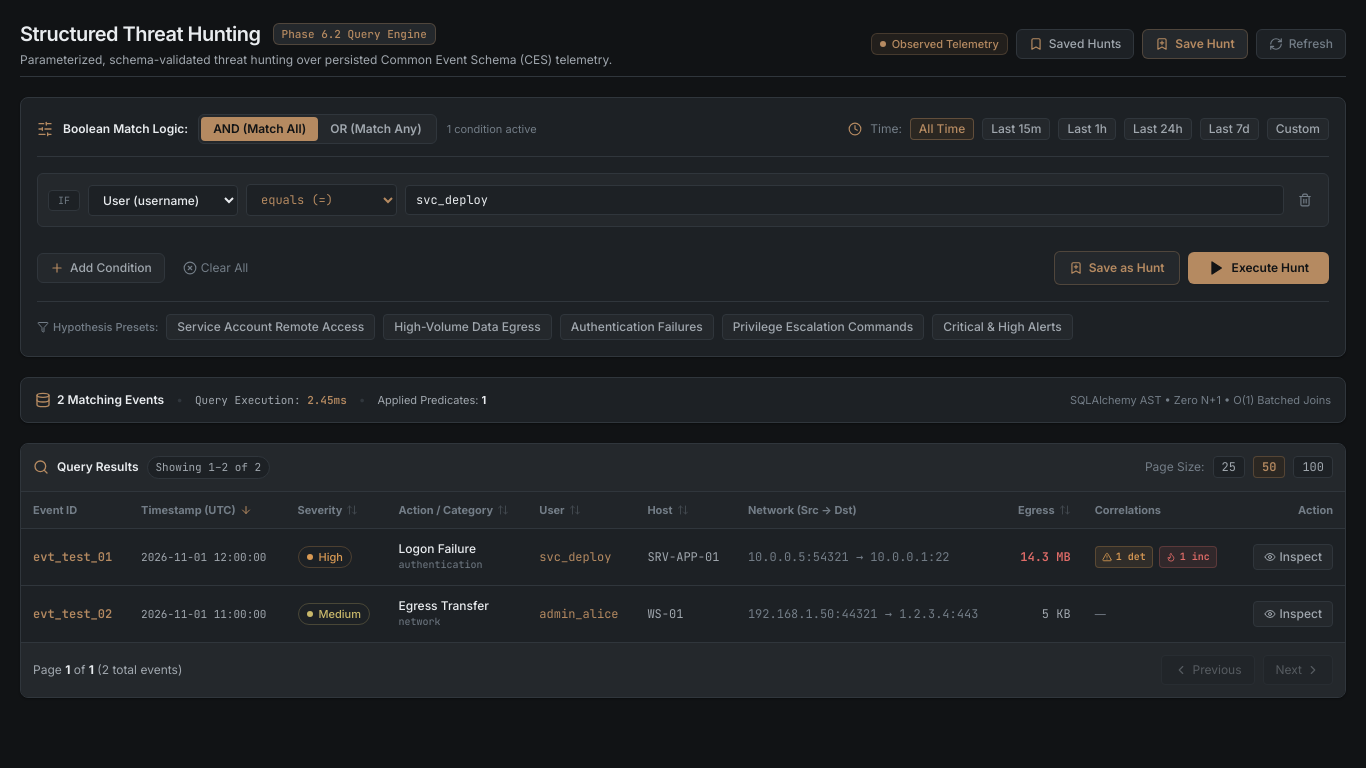
Scenario: ThreatHunting View Component › opens EvidenceDrawer when Inspect button is clicked
Expected: the text "evt_test_01" is shown, top-left (21, 528), bottom-right (129, 585)
# Click Inspect on first event
What coordinates should you click on to do the following:
click the button "Inspect" in the row of "evt_test_01"
I would click on:
 (1293, 556)
Its box is top-left (1253, 544), bottom-right (1333, 570).
(page scrolled)
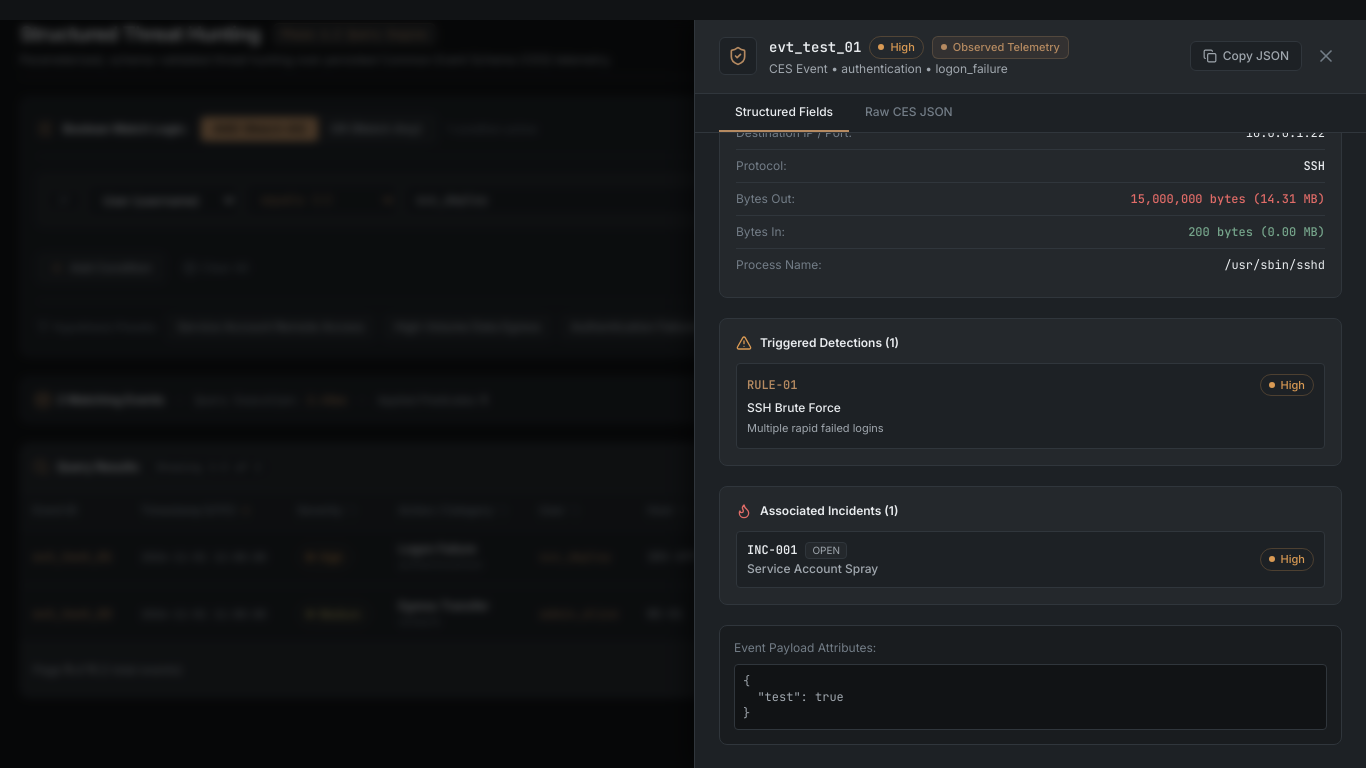
Expected: the heading "Triggered Detections (1)" is shown, top-left (760, 334), bottom-right (899, 350)
Expected: the heading "Associated Incidents (1)" is shown, top-left (760, 503), bottom-right (898, 519)
Expected: the text "SSH Brute Force" is shown, top-left (747, 400), bottom-right (841, 415)
